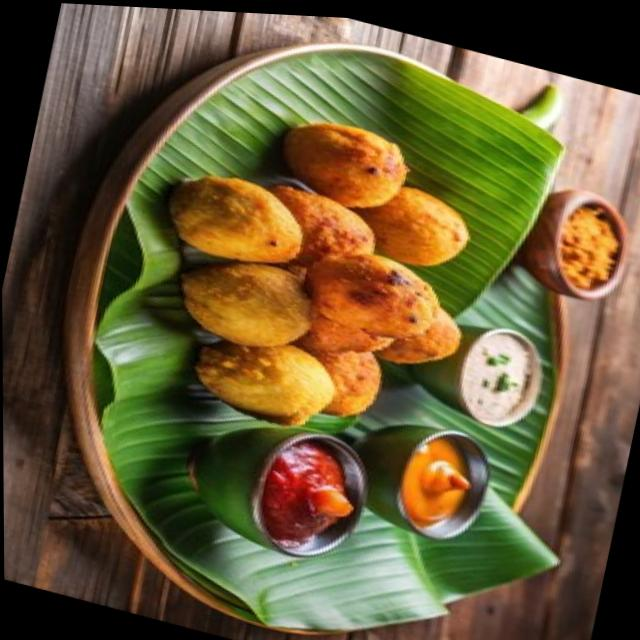BONDA: (168, 118, 473, 425)
RED CHUTNEY: (404, 437, 473, 528)
SAUCE: (259, 442, 349, 547)
WHITE CHUTNEY: (462, 334, 529, 420)
